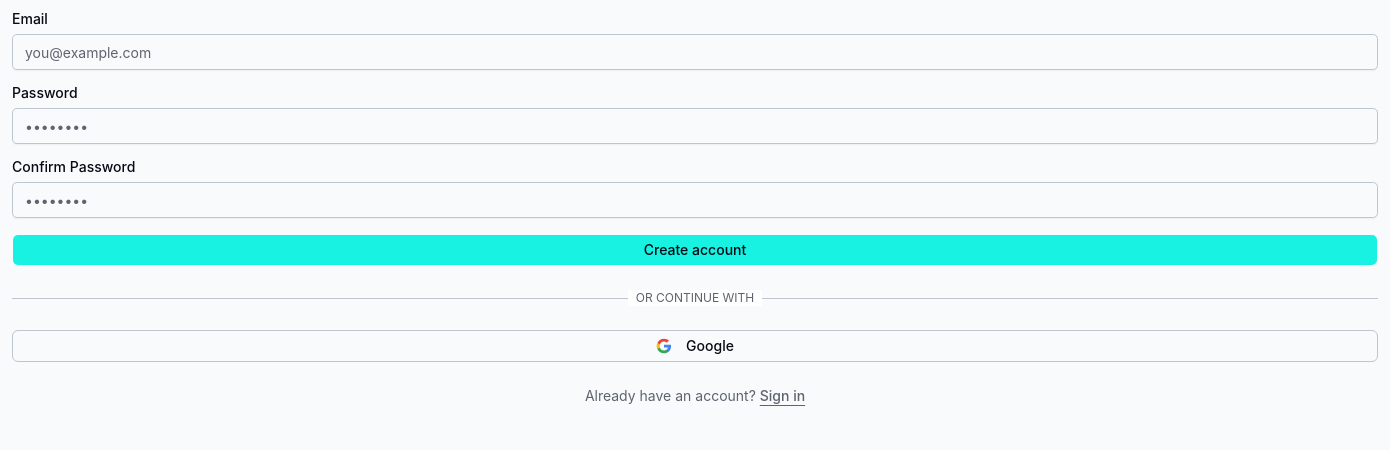
it: SignupForm › blocks submission when the passwords do not match
The image size is (1390, 450).
Type "coach@example.com" into the field labelled "Email".
click(695, 52); type("coach@example.com")  # box left=12, top=34, right=1378, bottom=70
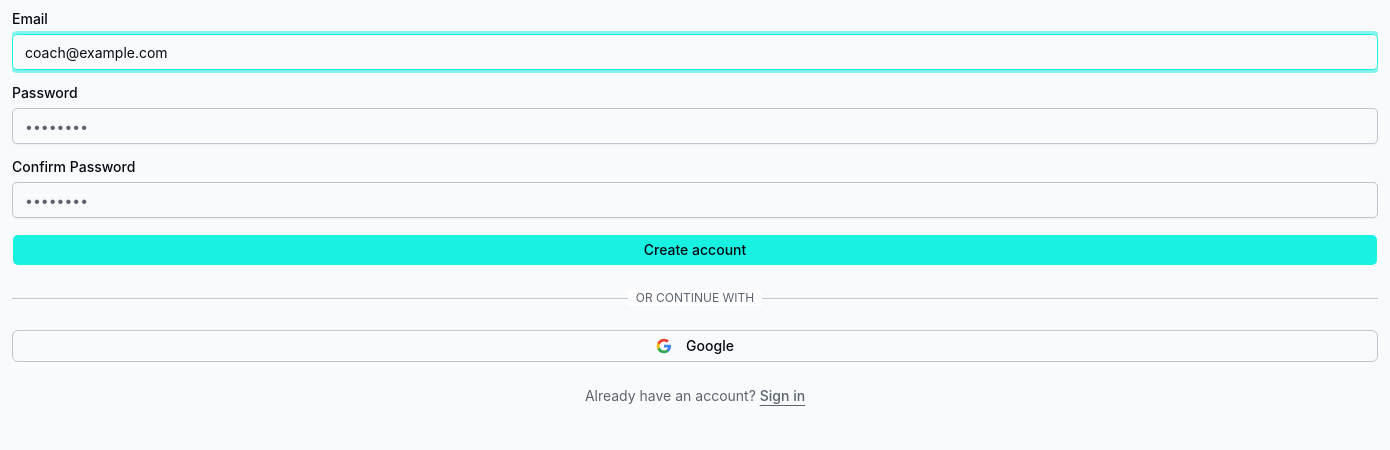
Type "password123" into the password field labelled "Password".
click(695, 126); type("password123")  # box left=12, top=108, right=1378, bottom=144
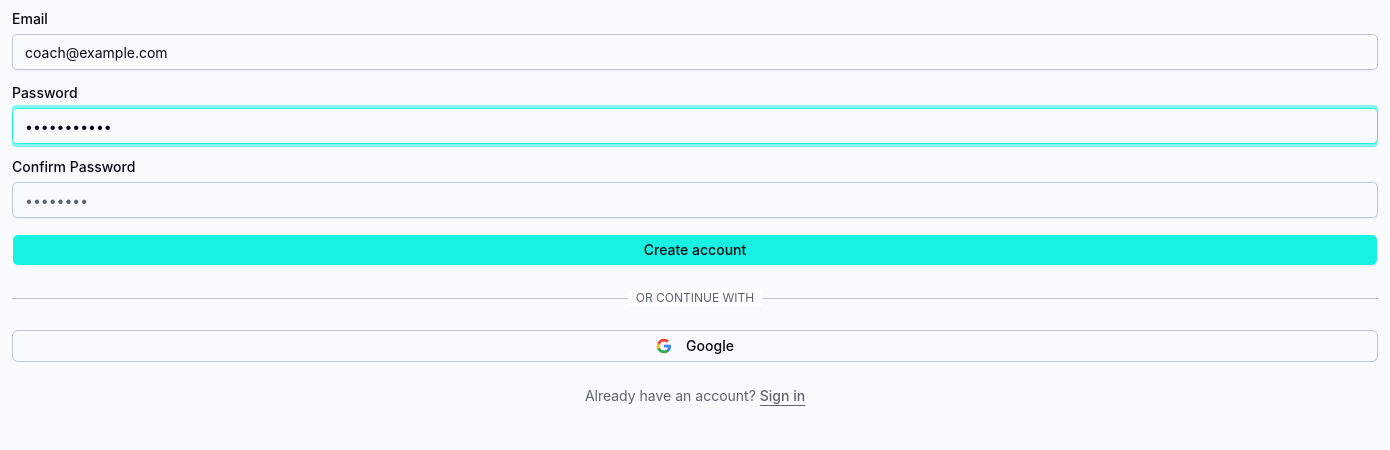
Type "password321" into the password field labelled "Confirm Password".
click(695, 200); type("password321")  # box left=12, top=182, right=1378, bottom=218
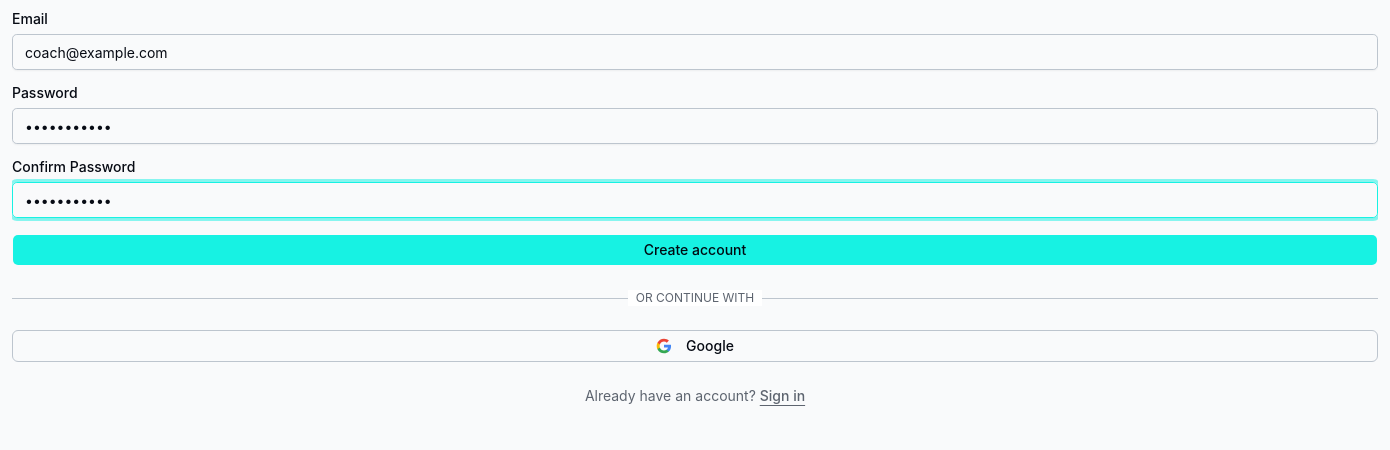
Click the button "Create account".
click(695, 250)  # box left=12, top=234, right=1378, bottom=266
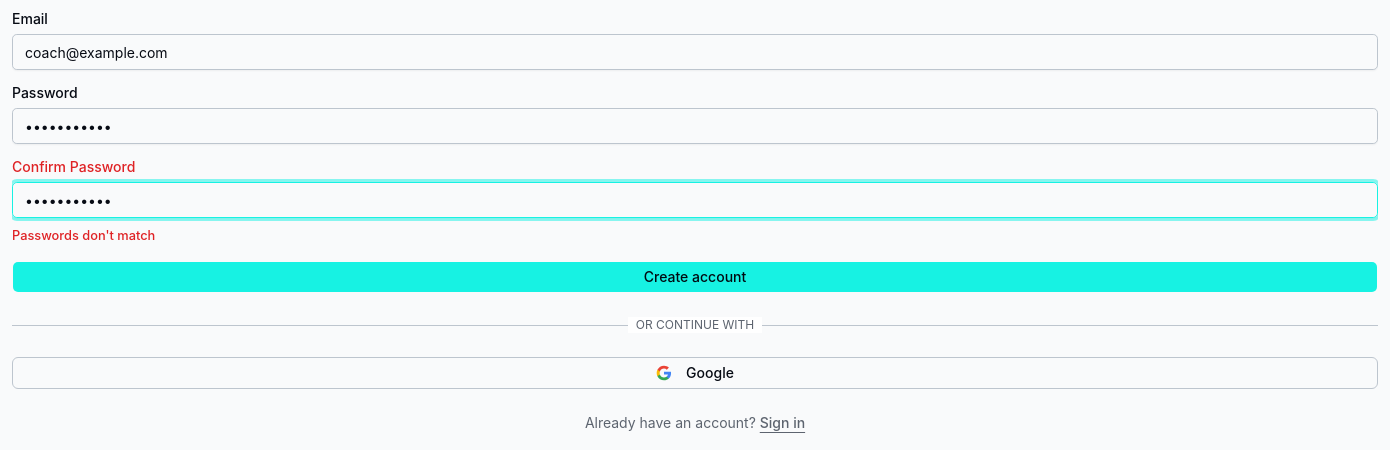
expect the text "Passwords don't match" is shown: met, box left=12, top=228, right=155, bottom=243
